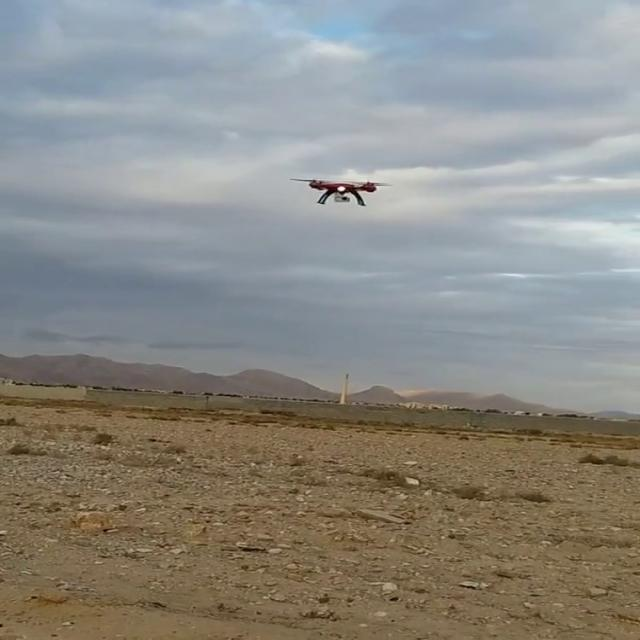drone: (293, 177, 392, 209)
